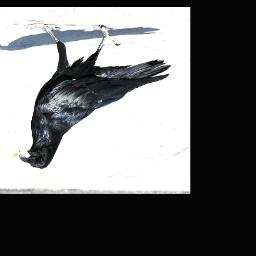Crow: (14, 22, 172, 169)
